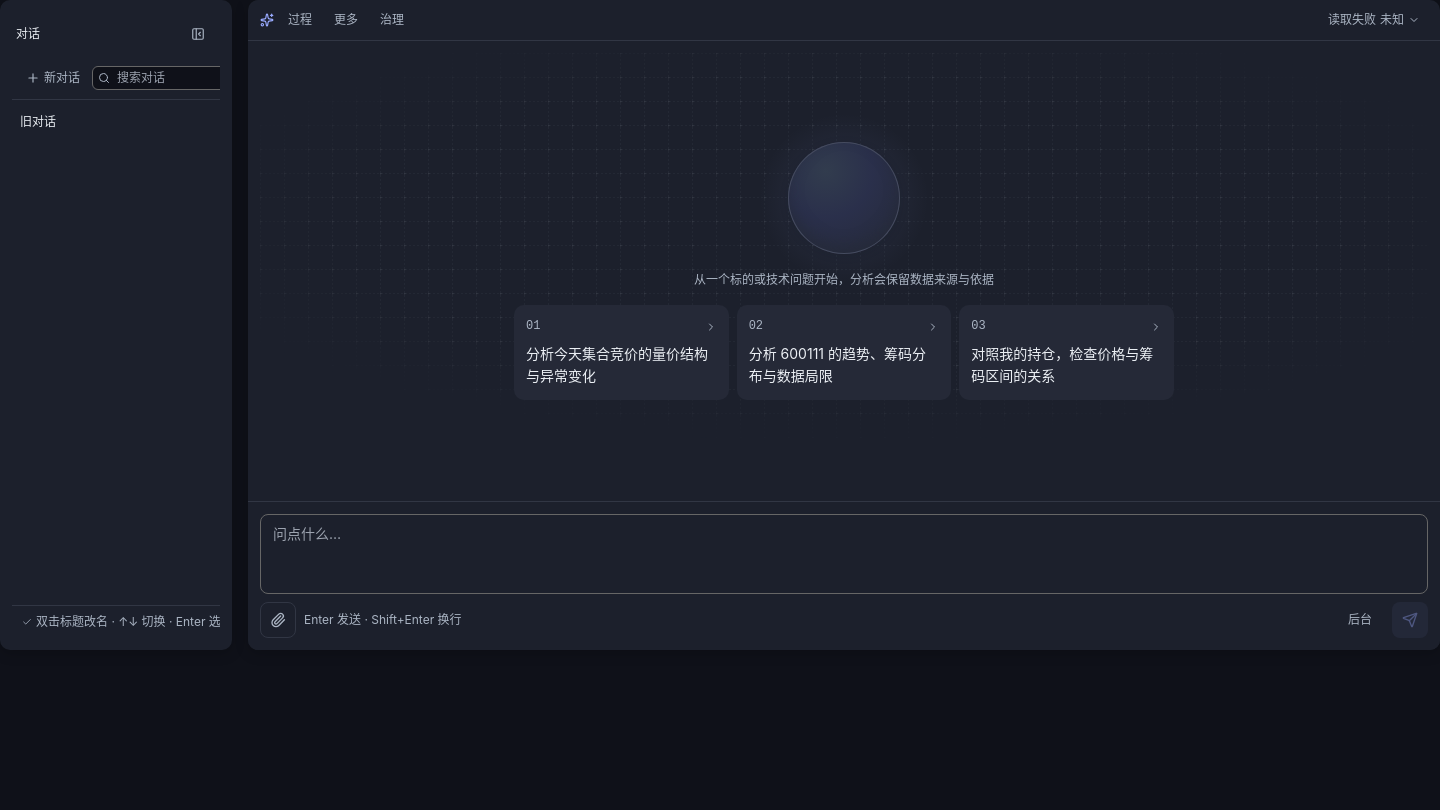
Test: 流中途 reject · 半截正文必须标成不完整 › 已有半截正文时断流：正文保留但带不完整标记，失败原因可见
Check: the button named "发送" is shown, box 1392,602 -> 1428,638
Type "600111 怎么看" into the text box with placeholder "问点什么…". click: (844, 554)
box: 260,514 -> 1428,594
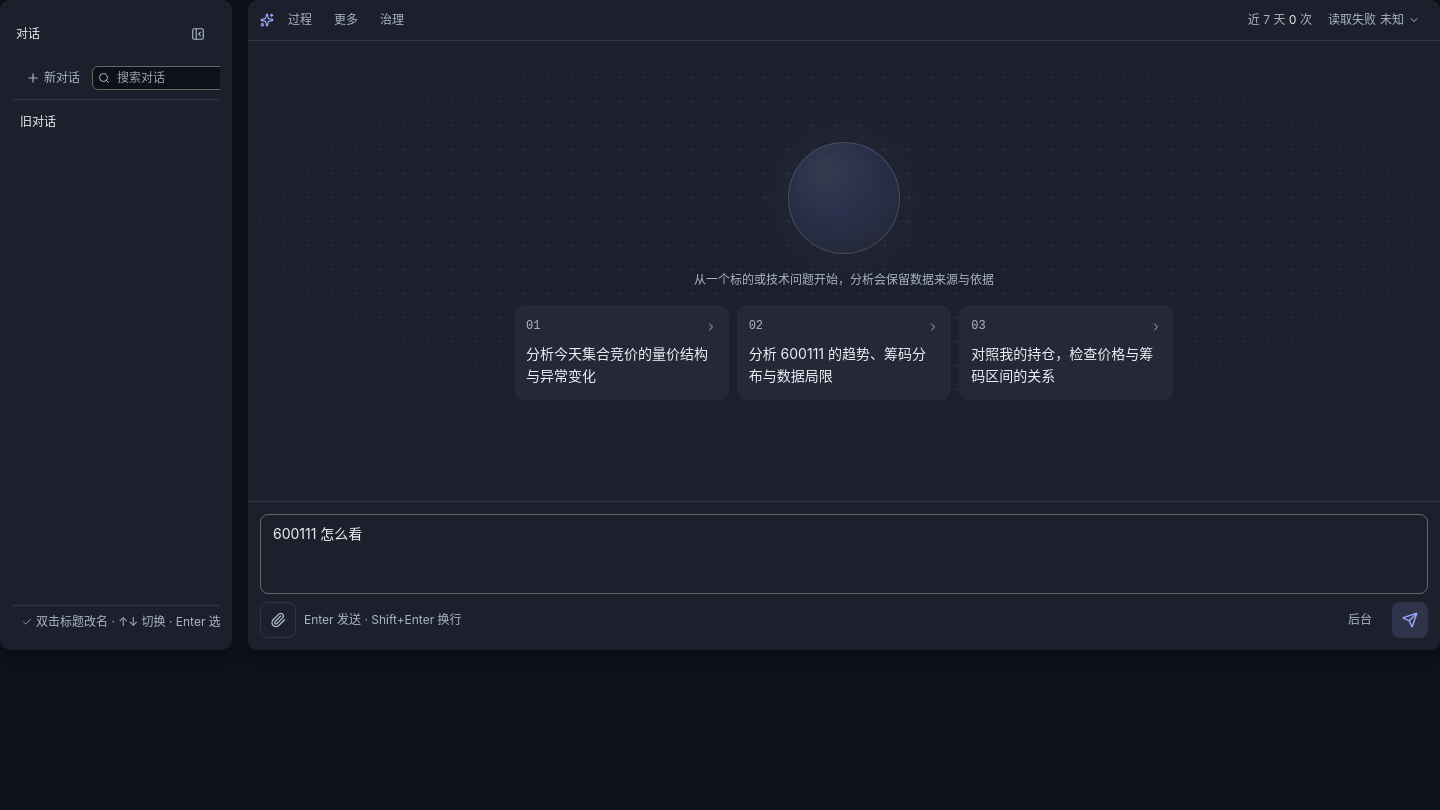
Click the button named "发送". click: click(1410, 620)
box: 1392,602 -> 1428,638
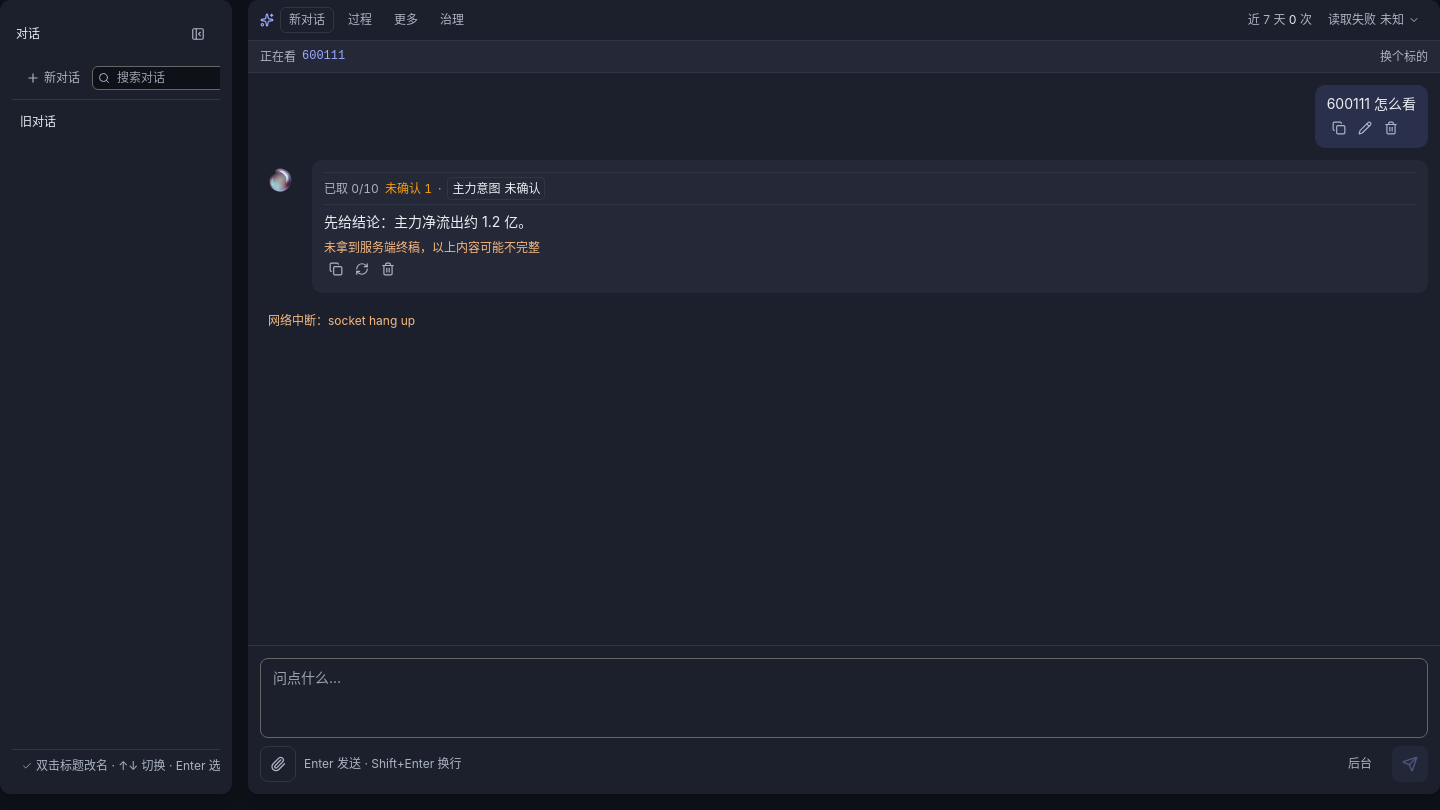
Check: the text with test id "copilot-stream-incomplete" shows "不完整", box 324,240 -> 540,255
Check: the text "先给结论：主力净流出约 1.2 亿。" is shown, box 324,213 -> 532,230
Check: the text "网络中断：socket hang up" is shown, box 260,305 -> 1428,336
